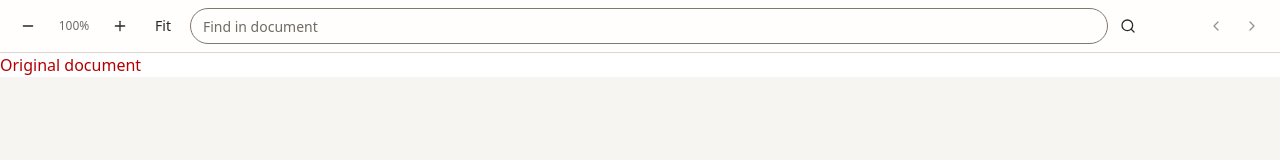
Test: NativeDocument controls › provides accessible zoom, fit, search and match navigation while preserving the document
Later steps or results of the test are not shown.
Check: the element named "Document controls" is shown, box [0, 0, 1279, 53]
Click the button named "Zoom in document". click: click(120, 26)
box: [104, 10, 136, 42]
Click the button "Fit". click: click(163, 26)
box: [142, 10, 184, 42]
Type "budget" into the search field labelled "Find in document". click: (649, 26)
box: [190, 8, 1108, 44]
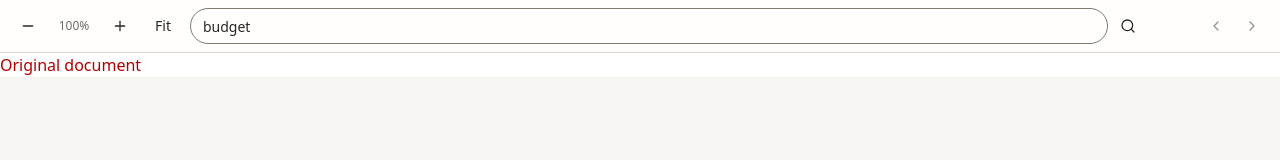
Submit the form named "Search document", box [190, 8, 1268, 44]
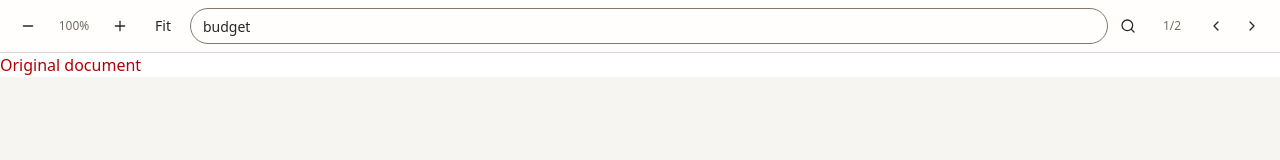
Check: the text named "Search matches" reads "1/2", box [1163, 17, 1181, 34]
